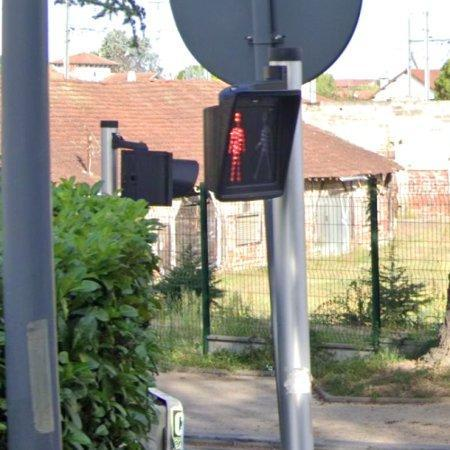traffic lights: (202, 84, 305, 202), (117, 141, 200, 212)
